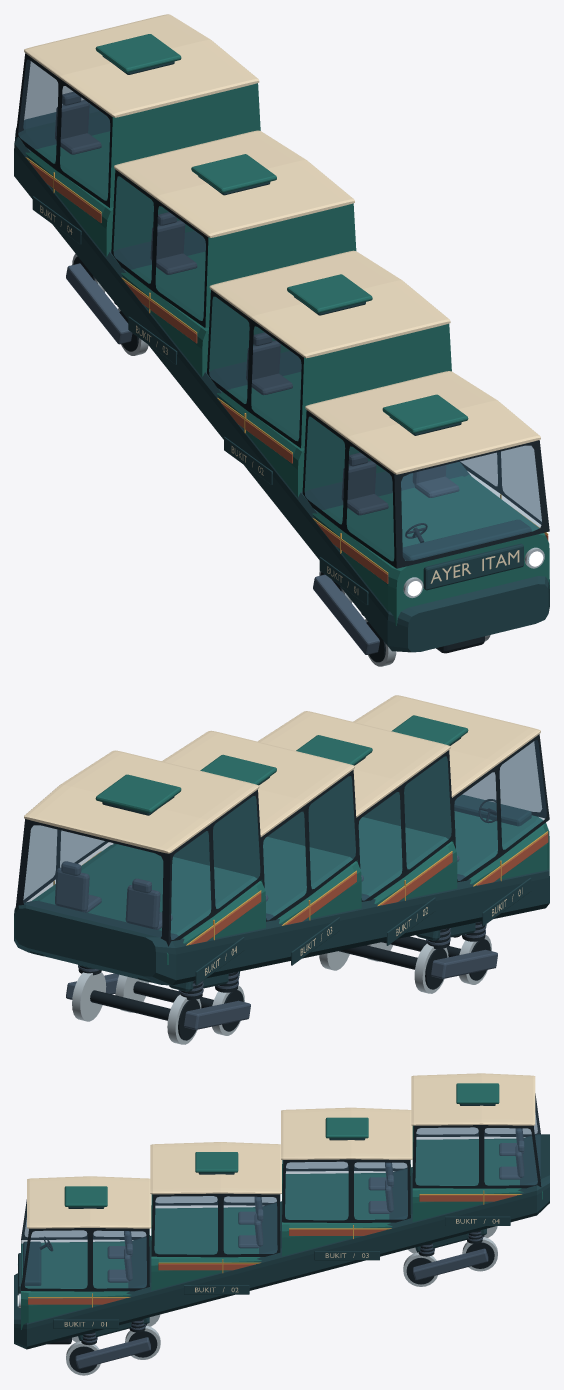
3 renders of one model, top to bottom at view 1: azimuth 30°, elevation 25°; view 2: azimuth 150°, elevation 25°; view 3: azimuth 270°, elevation 25°, orthographic. The views are drawn at different scales.
Visible parts, largest first — view 1: Ayer Itam Incline Coach; view 2: Ayer Itam Incline Coach; view 3: Ayer Itam Incline Coach.
Boxes of the visible parts, x1,y1,x2,y2 form: Ayer Itam Incline Coach: (14,14,549,666); Ayer Itam Incline Coach: (14,695,549,1044); Ayer Itam Incline Coach: (14,1073,549,1375).
Bounding box in the file's own units: 2.41 × 5.47 × 9.98.
